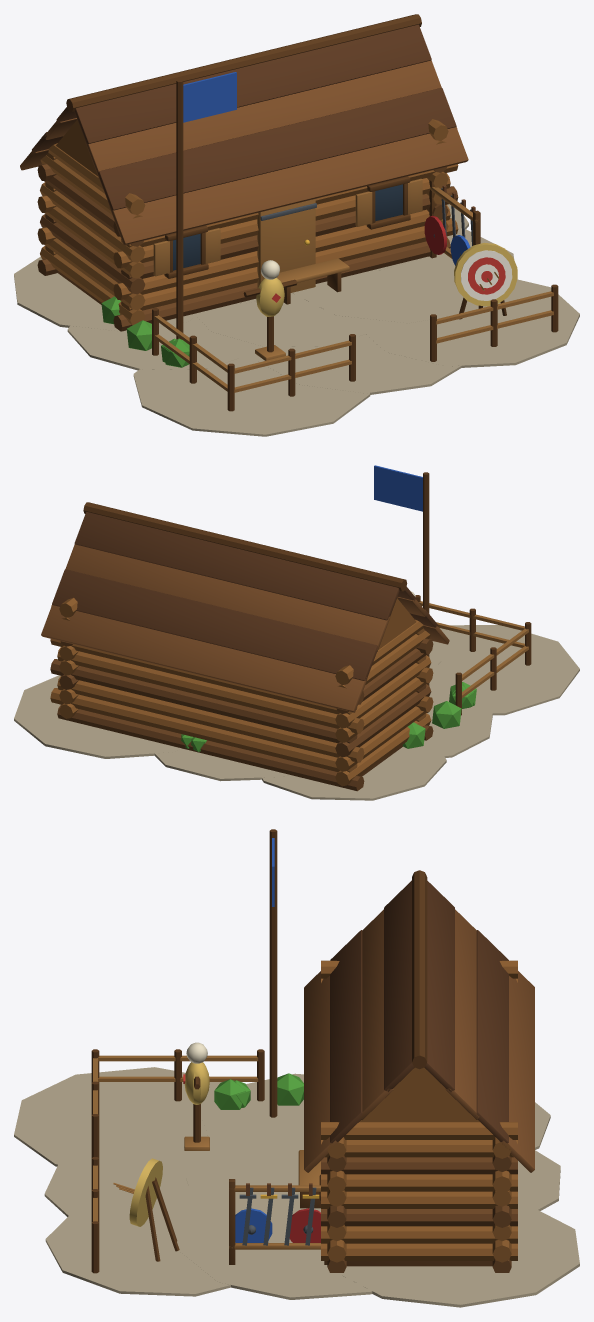
Rendered from koszary_poz07.glb.
3 views of the same model, one above another, from view 1: azimuth 30°, elevation 25°; view 2: azimuth 150°, elevation 25°; view 3: azimuth 270°, elevation 25° (orthographic). The views are drawn at different scales.
Parts seen in each view (by area): view 1: koszary_poz07; view 2: koszary_poz07; view 3: koszary_poz07.
Boxes of the visible parts, x1,y1,x2,y2 form: koszary_poz07: [14, 14, 579, 436]; koszary_poz07: [14, 465, 579, 800]; koszary_poz07: [14, 829, 579, 1307].
Size of the model in its own units: 8.86 by 5.11 by 8.91.
